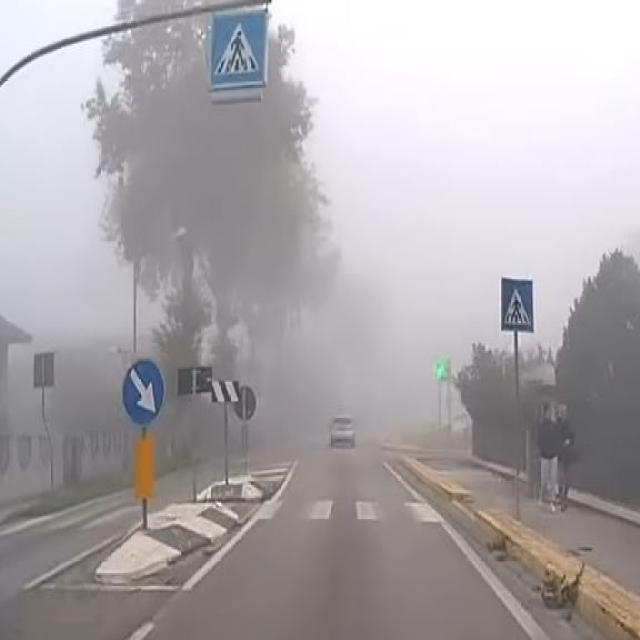Pedestrian crosswalk: (252, 496, 460, 523), (215, 16, 262, 81), (503, 280, 532, 330)
Person: (536, 399, 558, 517), (556, 399, 577, 516)
